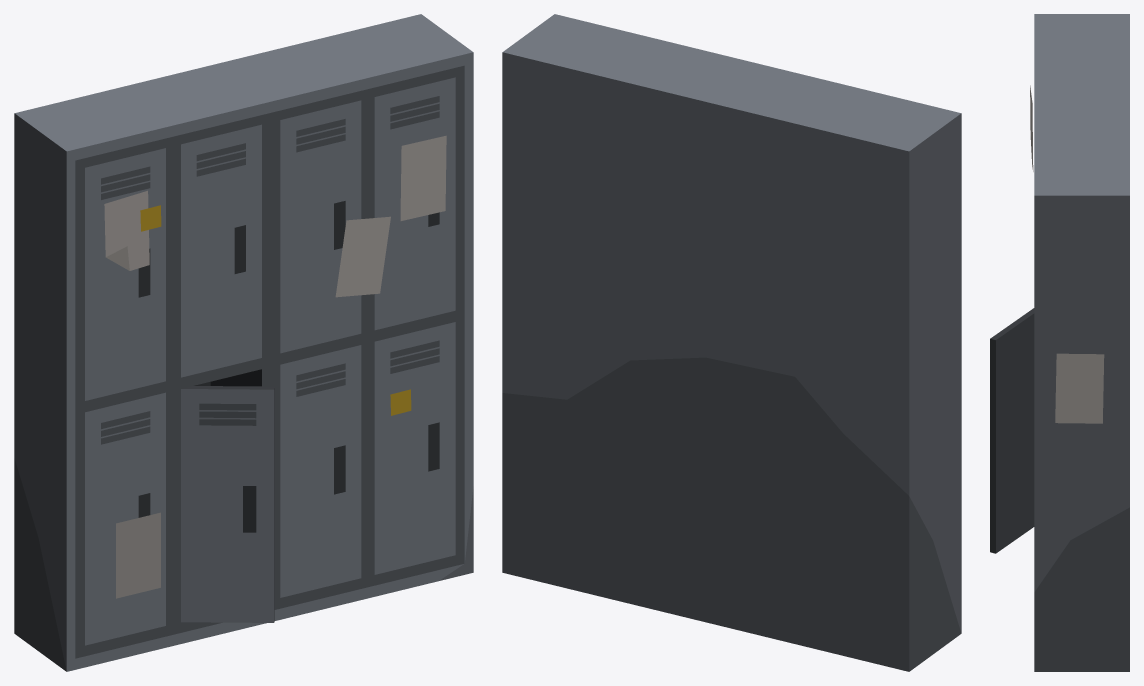
Rendered from AI_Prop_Lockers_02.fbx.
3 views of the same model, side by side, from view 1: azimuth 30°, elevation 25°; view 2: azimuth 150°, elevation 25°; view 3: azimuth 270°, elevation 25° (orthographic). The views are drawn at different scales.
Visible parts, largest first — view 1: AI_Prop_Lockers_02; view 2: AI_Prop_Lockers_02; view 3: AI_Prop_Lockers_02.
Boxes of the visible parts, <box> form: AI_Prop_Lockers_02: <box>14,14,473,671</box>; AI_Prop_Lockers_02: <box>502,14,961,671</box>; AI_Prop_Lockers_02: <box>990,14,1129,671</box>.
Size of the model in its own units: 3.1 by 3.75 by 0.999.
